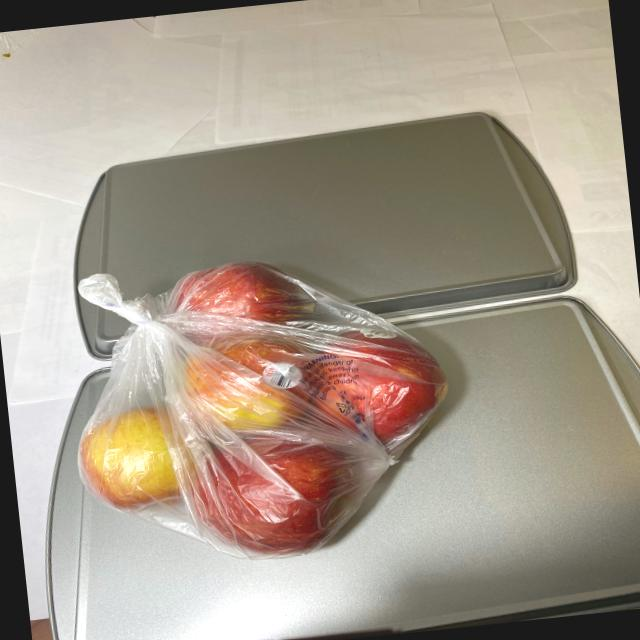apple: (50, 240, 474, 574)
